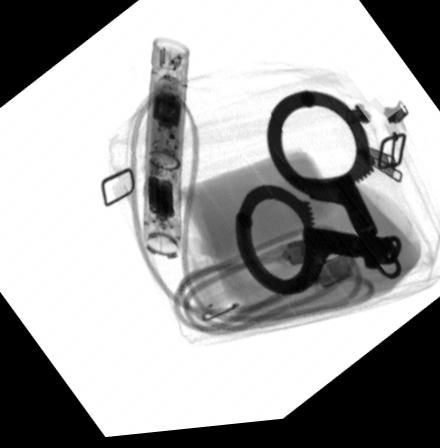Baton: (142, 39, 191, 263)
HandCuffs: (232, 95, 403, 302)
